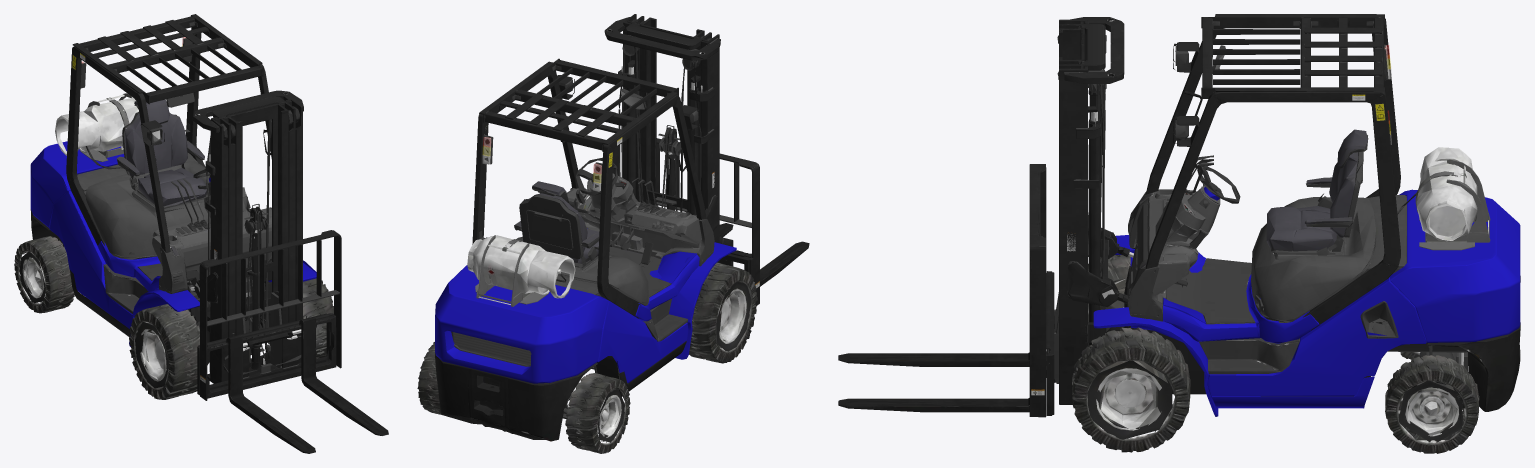
The model's file is forklift.glb.
3 views of the same model, side by side, from view 1: azimuth 30°, elevation 25°; view 2: azimuth 150°, elevation 25°; view 3: azimuth 270°, elevation 25° (orthographic). The views are drawn at different scales.
Parts seen in each view (by area): view 1: forklift_mesh, mast_stage4_mesh, mast_stage2_mesh, wheel4_mesh, mast_stage1_mesh, wheel2_mesh, mast_stage3_mesh, fork1_mesh, fork2_mesh, wheel3_mesh; view 2: forklift_mesh, wheel4_mesh, wheel2_mesh, mast_stage2_mesh, mast_stage4_mesh, mast_stage1_mesh, wheel1_mesh, fork1_mesh, steering_wheel_mesh; view 3: forklift_mesh, wheel3_mesh, wheel1_mesh, mast_stage4_mesh, fork2_mesh, fork1_mesh, mast_stage1_mesh, mast_stage3_mesh, mast_stage2_mesh, wheel4_mesh, steering_wheel_mesh.
Part boxes in pixels (x1,y1,x2,y2): forklift_mesh: [30, 14, 316, 383]; mast_stage4_mesh: [199, 230, 341, 400]; mast_stage2_mesh: [223, 103, 288, 370]; wheel4_mesh: [129, 304, 199, 399]; mast_stage1_mesh: [212, 96, 295, 367]; wheel2_mesh: [14, 236, 74, 313]; mast_stage3_mesh: [197, 291, 333, 395]; fork1_mesh: [226, 333, 315, 453]; fork2_mesh: [299, 315, 388, 435]; wheel3_mesh: [269, 278, 333, 358]; forklift_mesh: [435, 14, 736, 441]; wheel4_mesh: [689, 262, 757, 363]; wheel2_mesh: [565, 373, 630, 453]; mast_stage2_mesh: [637, 17, 704, 212]; mast_stage4_mesh: [613, 138, 759, 305]; mast_stage1_mesh: [625, 16, 711, 201]; wheel1_mesh: [417, 342, 440, 414]; fork1_mesh: [719, 237, 809, 286]; steering_wheel_mesh: [576, 157, 617, 195]; forklift_mesh: [1059, 14, 1520, 416]; wheel3_mesh: [1072, 327, 1190, 452]; wheel1_mesh: [1385, 355, 1479, 453]; mast_stage4_mesh: [1029, 164, 1050, 417]; fork2_mesh: [838, 398, 1029, 412]; fork1_mesh: [838, 352, 1029, 366]; mast_stage1_mesh: [1057, 21, 1105, 121]; mast_stage3_mesh: [1046, 271, 1058, 415]; mast_stage2_mesh: [1055, 26, 1088, 331]; wheel4_mesh: [1088, 255, 1130, 322]; steering_wheel_mesh: [1197, 165, 1240, 203].
Size of the model in its own units: 1.36 by 2.16 by 3.73.
5 materials, 4 textured.
